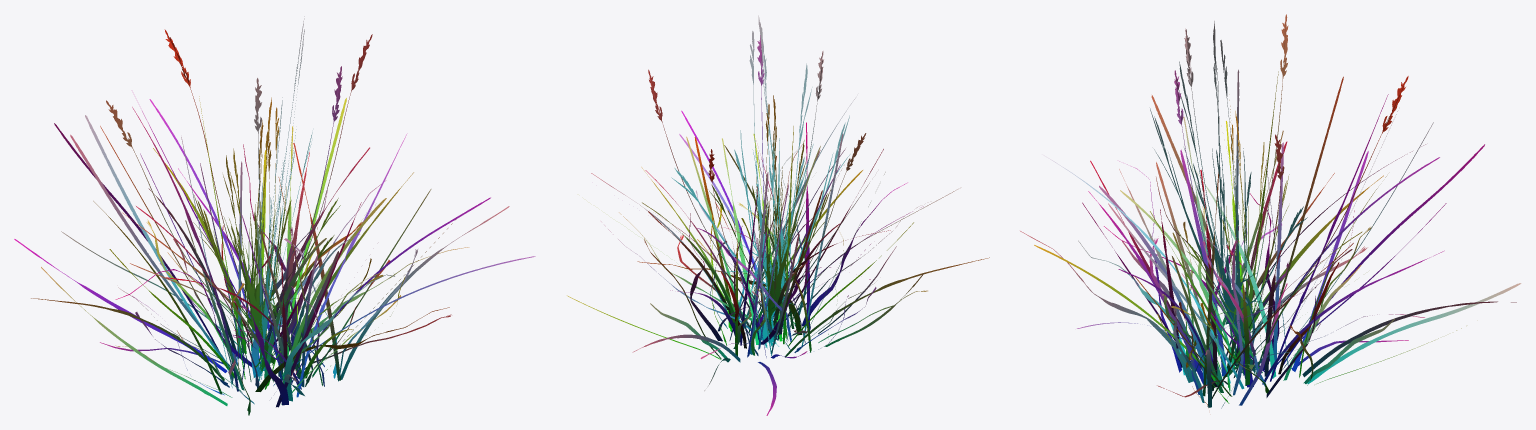
The model's file is Wild_Grass_vlkhcbxia_Raw_vlkhcbxia_VarA_LOD0.fbx.
3 renders of one model, left to right at view 1: azimuth 30°, elevation 25°; view 2: azimuth 150°, elevation 25°; view 3: azimuth 270°, elevation 25°, orthographic. The views are drawn at different scales.
Visible parts, largest first — view 1: _0ygx_VarA_High; view 2: _0ygx_VarA_High; view 3: _0ygx_VarA_High.
Boxes of the visible parts, left/top/right/bottom form: _0ygx_VarA_High: left=14, top=16, right=535, bottom=415; _0ygx_VarA_High: left=567, top=15, right=989, bottom=415; _0ygx_VarA_High: left=1020, top=14, right=1521, bottom=408.
Size of the model in its own units: 52.99 by 40.17 by 48.83.
